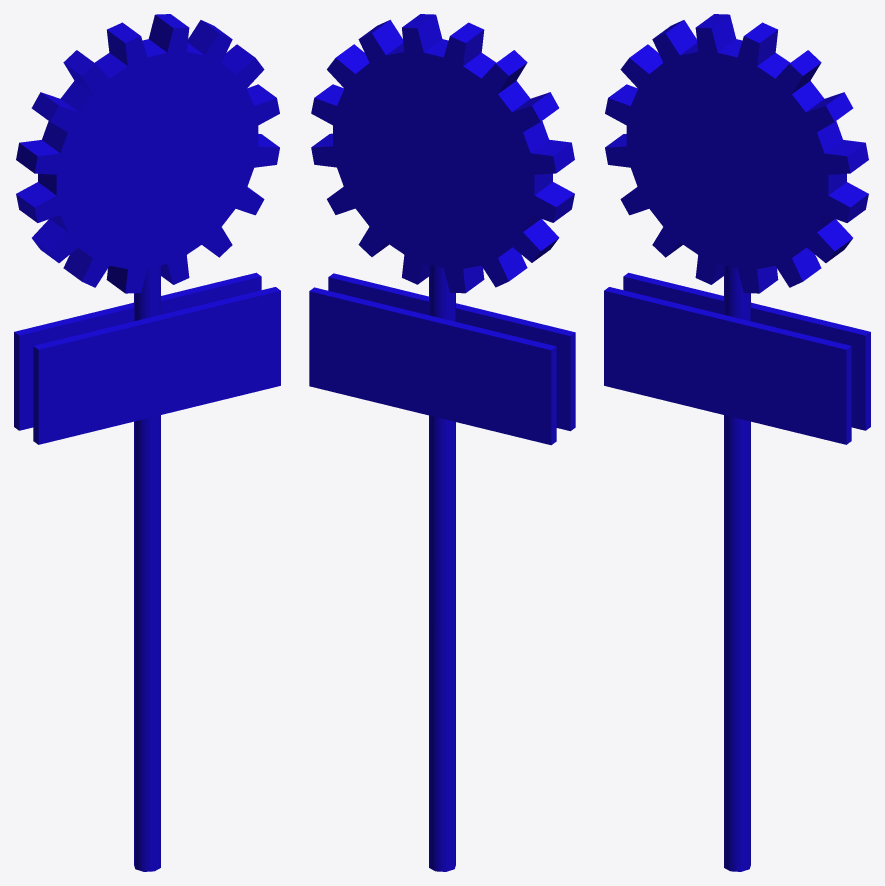
File: SM_town_bigsign.fbx
3 views of the same model, side by side, from view 1: azimuth 30°, elevation 25°; view 2: azimuth 150°, elevation 25°; view 3: azimuth 330°, elevation 25° (orthographic).
Parts seen in each view (by area): view 1: market_bigsign; view 2: market_bigsign; view 3: market_bigsign.
Boxes of the visible parts, left/top/right/bottom form: market_bigsign: left=14, top=14, right=280, bottom=871; market_bigsign: left=309, top=14, right=575, bottom=871; market_bigsign: left=604, top=14, right=870, bottom=871.
Bounding box in the file's own units: 162 × 531 × 28.
